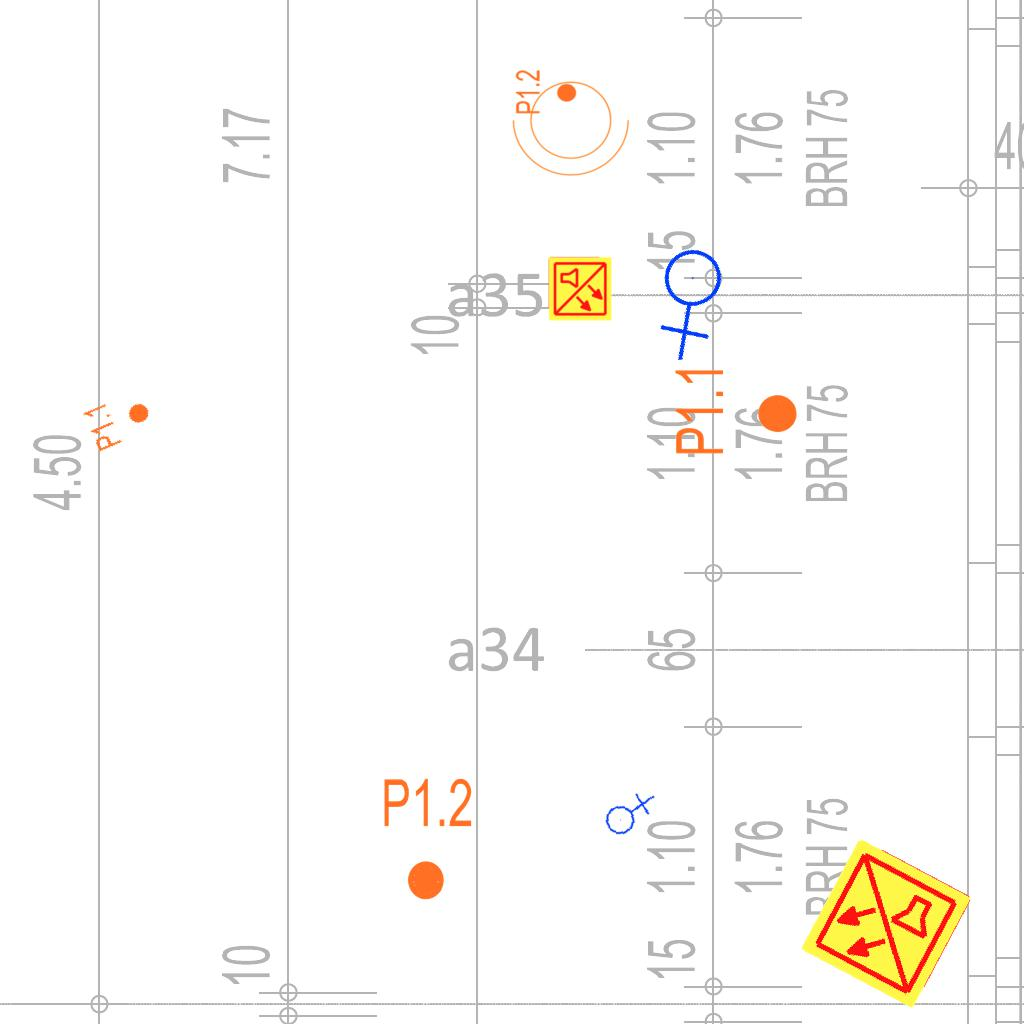Downlight_LED_Einbauleuchten_Flur: (381, 775, 474, 903), (672, 364, 800, 457), (80, 386, 158, 454), (514, 69, 578, 115)
Elektroanschluss_allgemein_230V_Geraeteanschlussdose_230V: (625, 231, 762, 367), (599, 785, 656, 840)
OKW_Multisensormelder_(Kombination_optischer_Rauch-Kahlenmonoxid_Waerme-Melder): (796, 833, 976, 1013), (547, 256, 613, 322)
Scheinwerfer_fuer_Alarmbeleuchtung: (508, 69, 640, 181)
